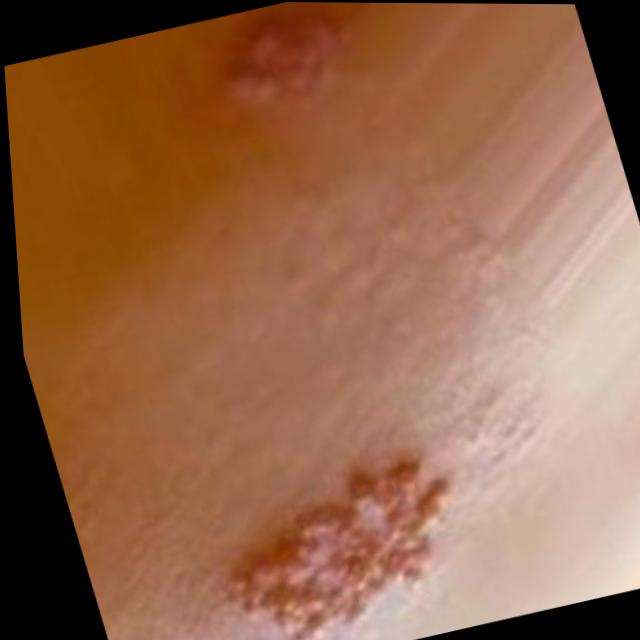Shingles: (204, 440, 487, 640), (210, 2, 358, 120)
